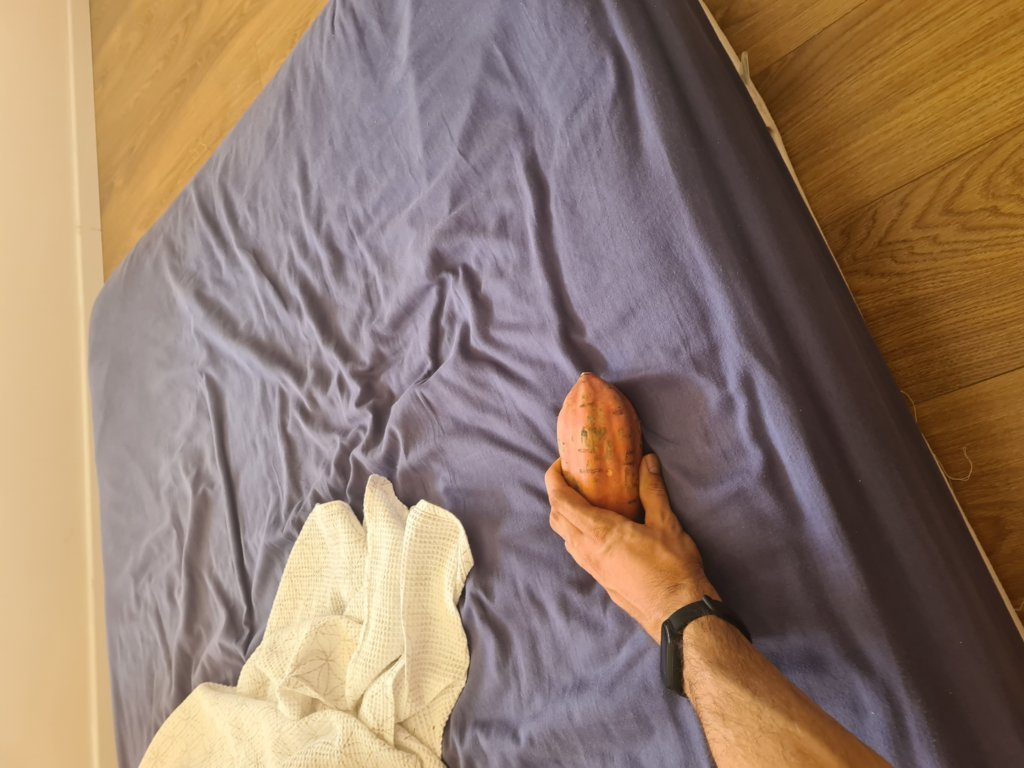Sweet Potatow: (572, 362, 639, 522)
